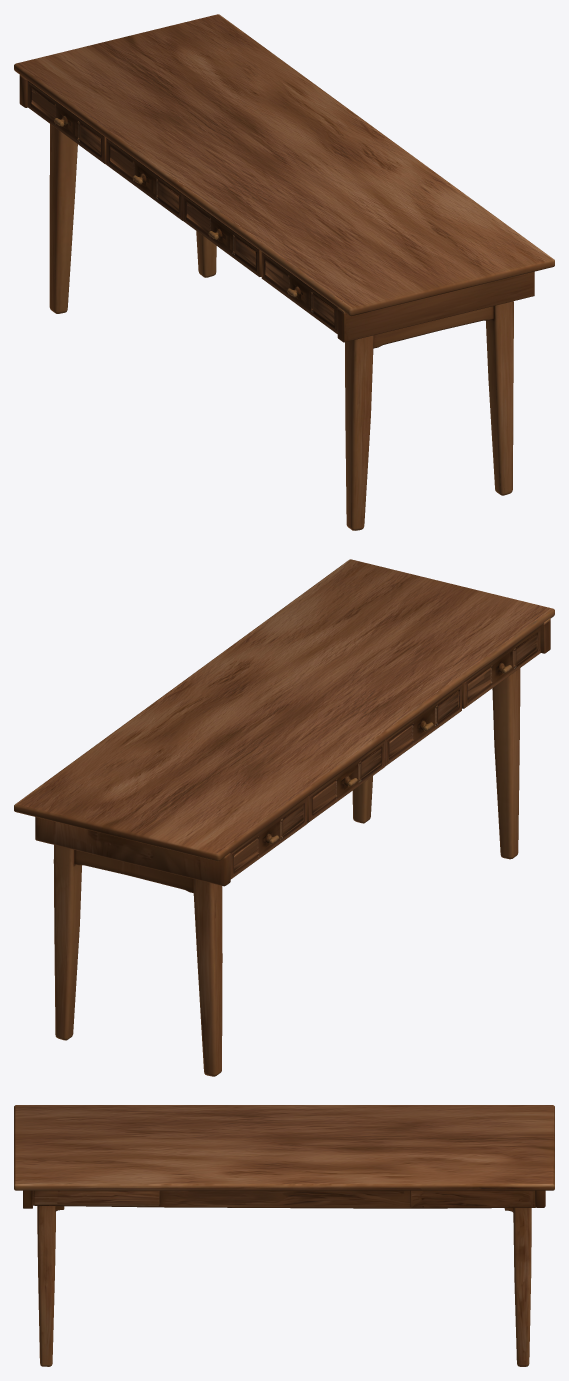
File: writing-desk.glb
3 renders of one model, top to bottom at view 1: azimuth 30°, elevation 25°; view 2: azimuth 150°, elevation 25°; view 3: azimuth 270°, elevation 25°, orthographic. The views are drawn at different scales.
Visible parts, largest first — view 1: tripo_node_aec2d323-29ca-4be7-8401-7d5522d680a3; view 2: tripo_node_aec2d323-29ca-4be7-8401-7d5522d680a3; view 3: tripo_node_aec2d323-29ca-4be7-8401-7d5522d680a3.
Part boxes in pixels (left/top/right/bottom): tripo_node_aec2d323-29ca-4be7-8401-7d5522d680a3: left=14, top=14, right=554, bottom=530; tripo_node_aec2d323-29ca-4be7-8401-7d5522d680a3: left=14, top=559, right=554, bottom=1076; tripo_node_aec2d323-29ca-4be7-8401-7d5522d680a3: left=14, top=1105, right=554, bottom=1366.
Size of the model in its own units: 0.3647 by 0.394 by 0.9995.
1 material, 1 textured.
